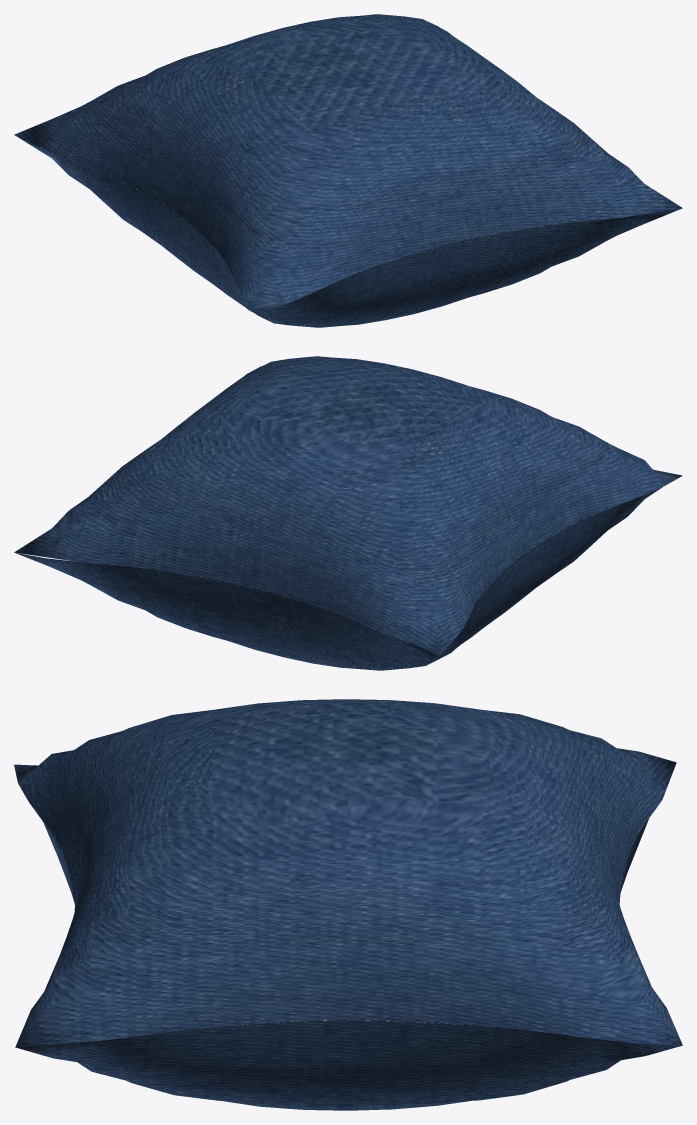
File: almohada.gltf
3 views of the same model, one above another, from view 1: azimuth 30°, elevation 25°; view 2: azimuth 150°, elevation 25°; view 3: azimuth 270°, elevation 25° (orthographic). The views are drawn at different scales.
Visible parts, largest first — view 1: Cube; view 2: Cube; view 3: Cube.
Boxes of the visible parts, x1,y1,x2,y2 form: Cube: (14,14,682,327); Cube: (14,356,682,670); Cube: (14,699,682,1110).
Bounding box in the file's own units: 1.86 × 0.922 × 1.85.
Materials: 1 (1 with a texture image).
